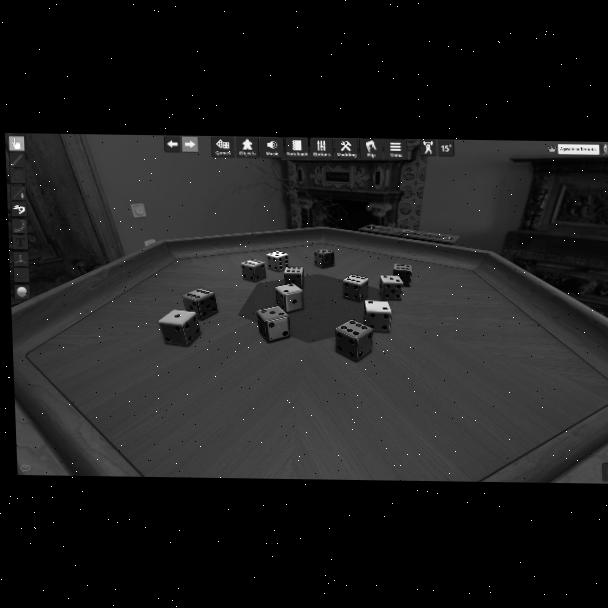d6: (334, 320, 373, 362), (158, 310, 200, 347), (256, 307, 290, 343), (181, 289, 217, 321), (363, 300, 392, 333), (274, 282, 303, 314), (341, 274, 368, 302), (378, 274, 404, 301), (240, 259, 266, 282), (266, 251, 289, 273), (284, 267, 305, 290), (392, 264, 412, 287), (314, 249, 331, 269)
